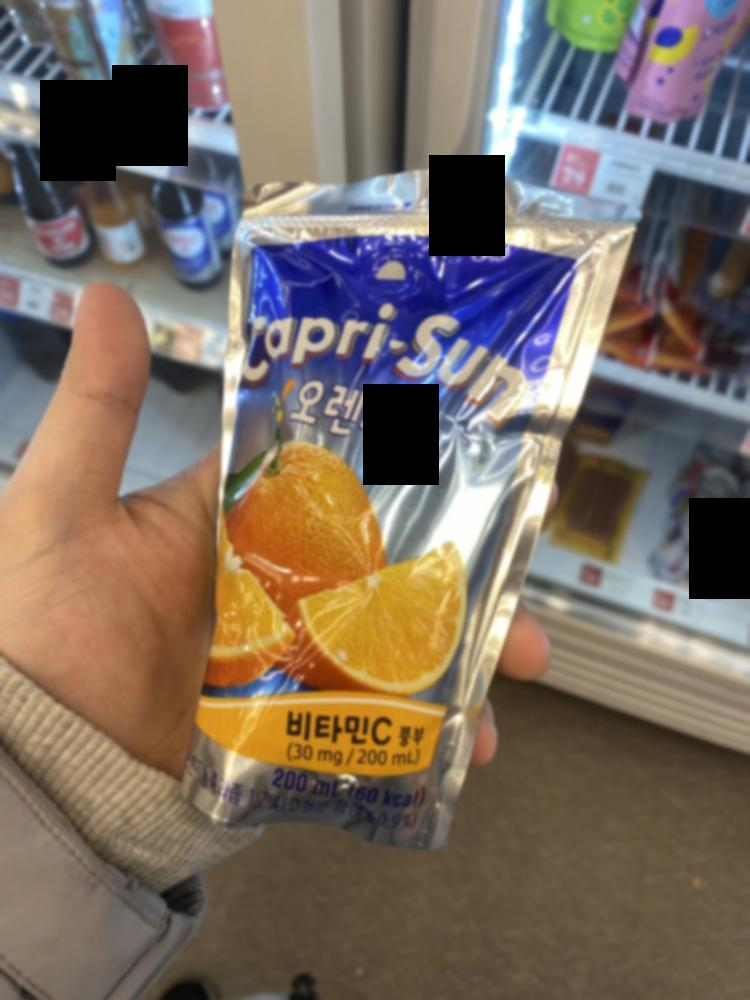cafrisun: (206, 180, 606, 847)
